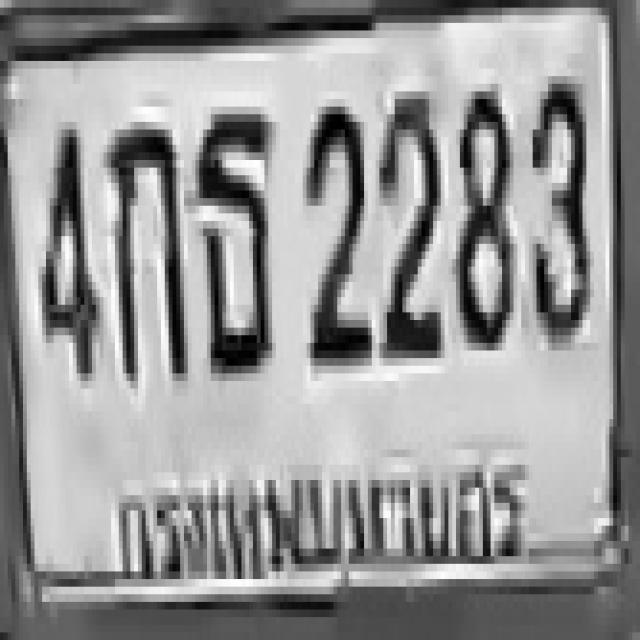10GorGai: (103, 114, 184, 373)
2: (303, 99, 368, 358), (375, 84, 437, 350)
3: (529, 72, 586, 339)
33ThorThong: (192, 103, 272, 369)
4: (38, 114, 96, 373)
8: (452, 84, 510, 343)
Bangkok: (109, 445, 532, 588)
